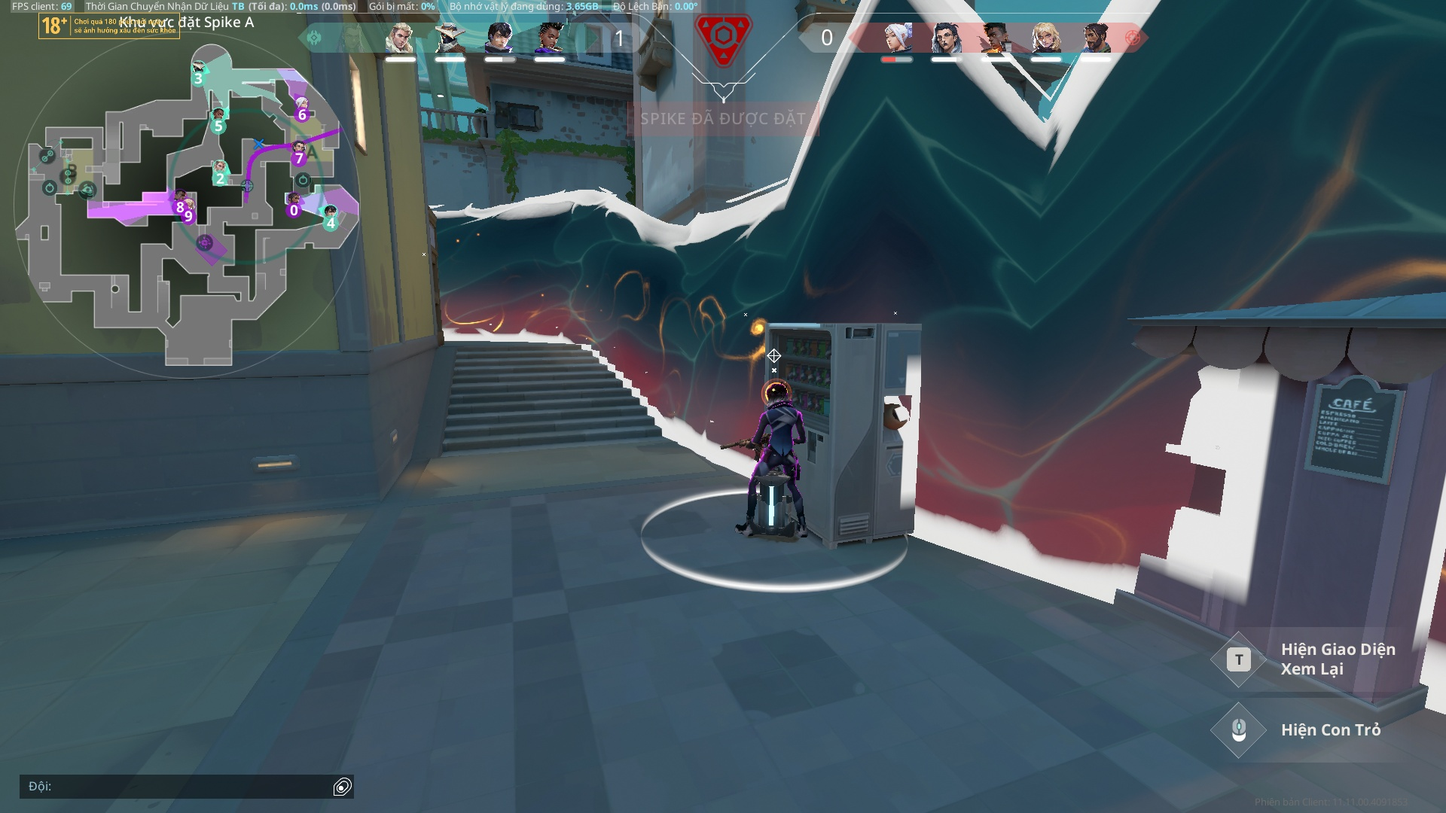body: (760, 403, 801, 448)
head: (764, 382, 794, 406)
